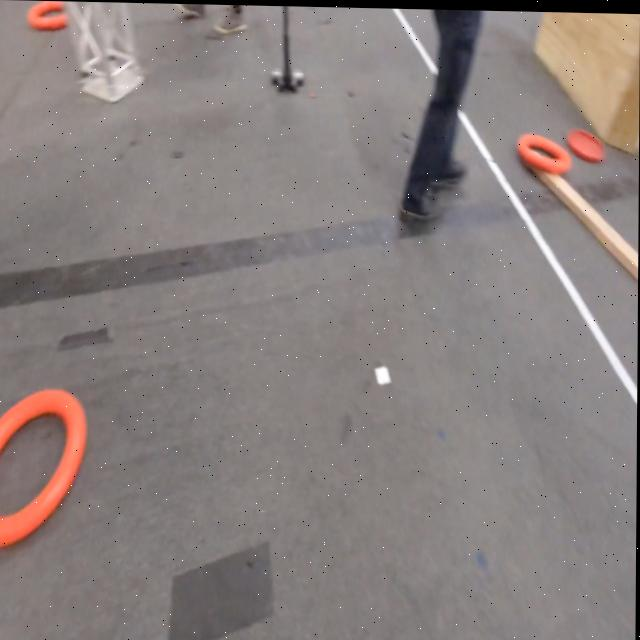note: (0, 393, 89, 555), (515, 129, 572, 173), (28, 0, 70, 30)
